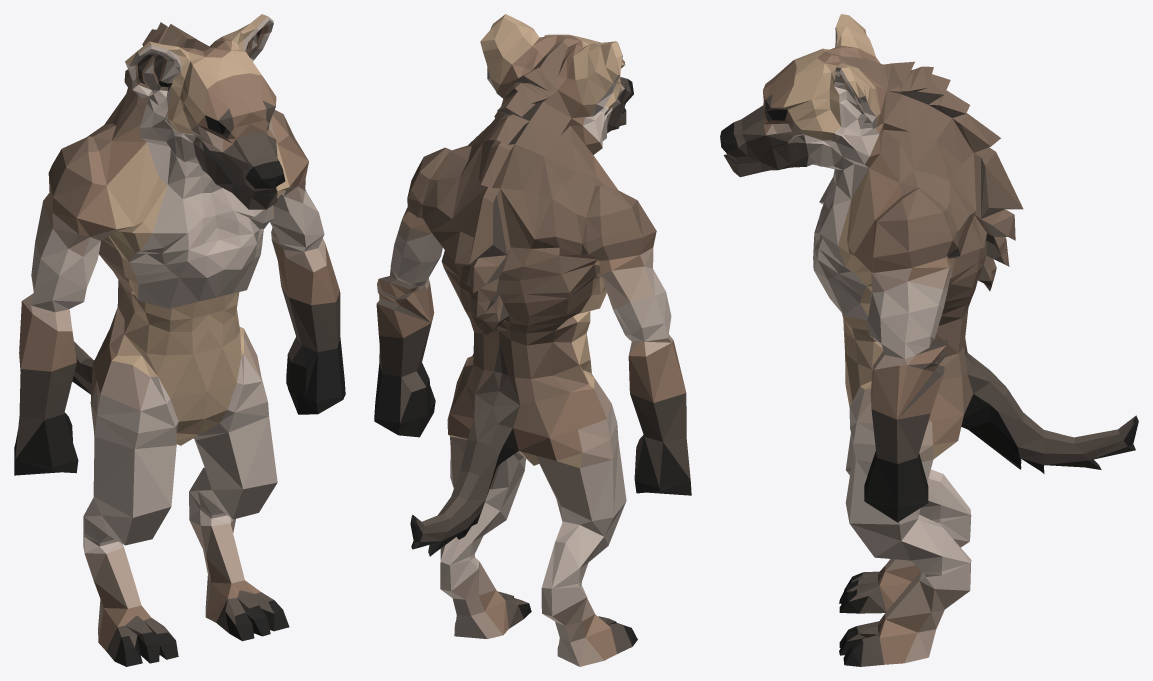
File: gnoll_naked.fbx
3 renders of one model, left to right at view 1: azimuth 30°, elevation 25°; view 2: azimuth 150°, elevation 25°; view 3: azimuth 270°, elevation 25°, orthographic. The views are drawn at different scales.
Parts seen in each view (by area): view 1: gnoll_11_tri; view 2: gnoll_11_tri; view 3: gnoll_11_tri.
Boxes of the visible parts, x1,y1,x2,y2 form: gnoll_11_tri: (14,14,345,666); gnoll_11_tri: (374,14,691,666); gnoll_11_tri: (720,14,1138,666).
Bounding box in the file's own units: 517 × 921 × 596.
